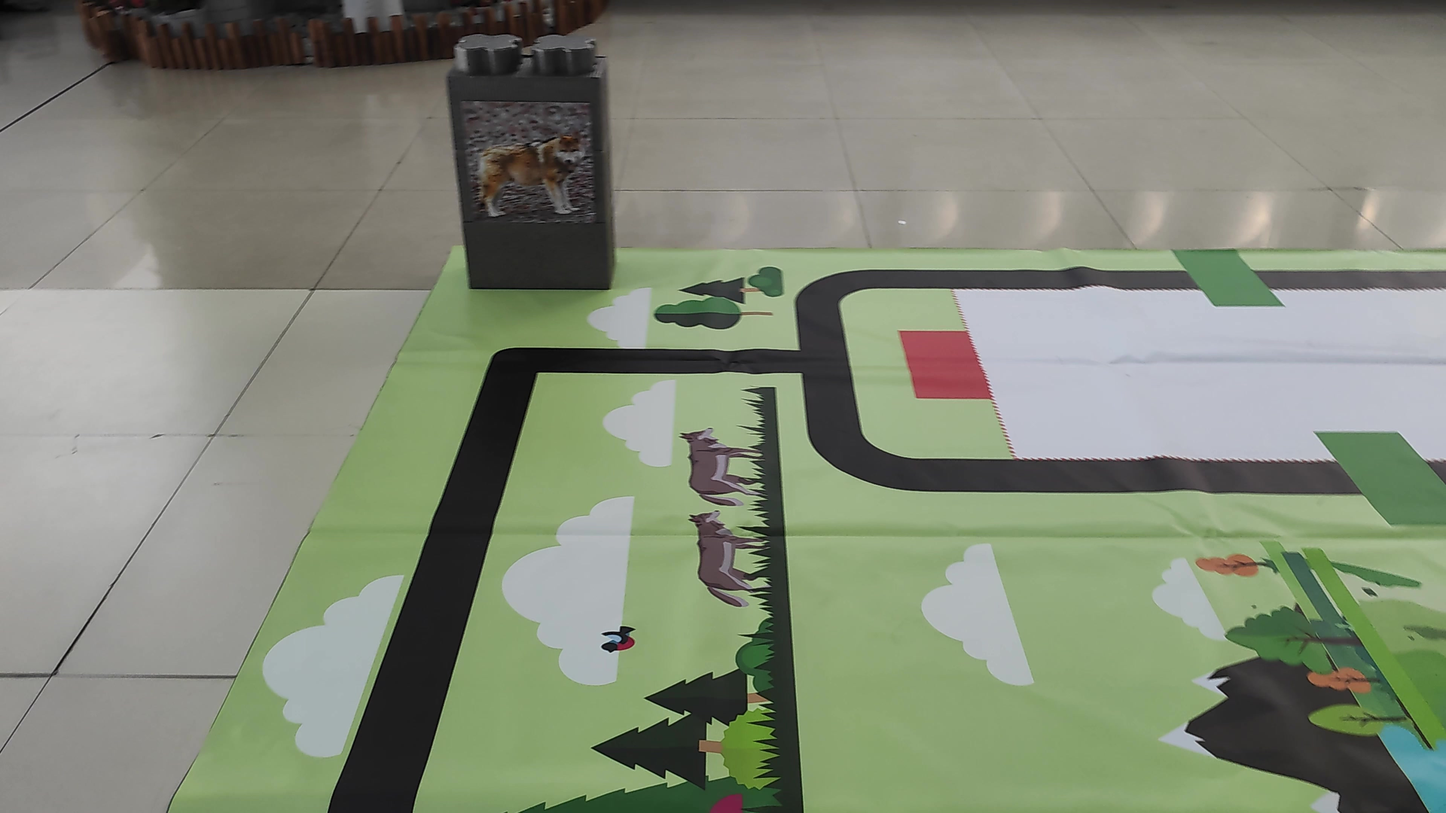wolf: (460, 97, 591, 226)
